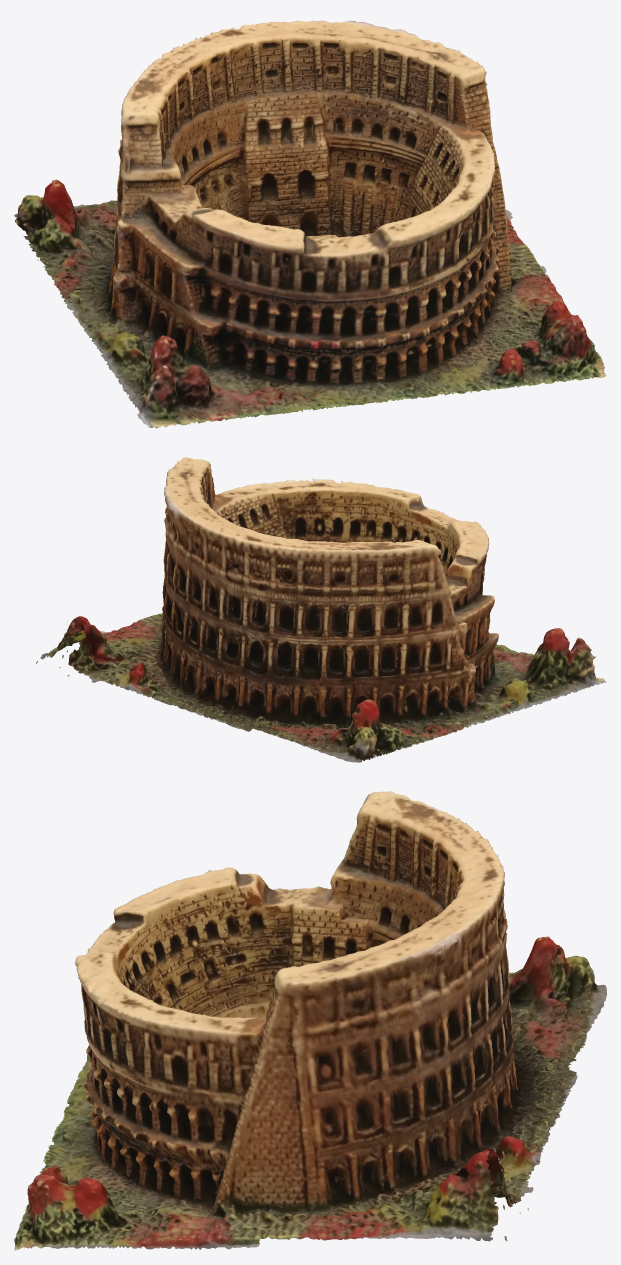
Rendered from wonder_colosseum.glb.
3 renders of one model, top to bottom at view 1: azimuth 30°, elevation 25°; view 2: azimuth 150°, elevation 25°; view 3: azimuth 270°, elevation 25°, orthographic. The views are drawn at different scales.
Parts seen in each view (by area): view 1: Stereo textured mesh; view 2: Stereo textured mesh; view 3: Stereo textured mesh.
Part boxes in pixels (x1,y1,x2,y2): Stereo textured mesh: (14,20,606,428); Stereo textured mesh: (36,457,606,762); Stereo textured mesh: (14,791,606,1250).
Size of the model in its own units: 1000 by 474 by 902.
Materials: 2 (2 with a texture image).
